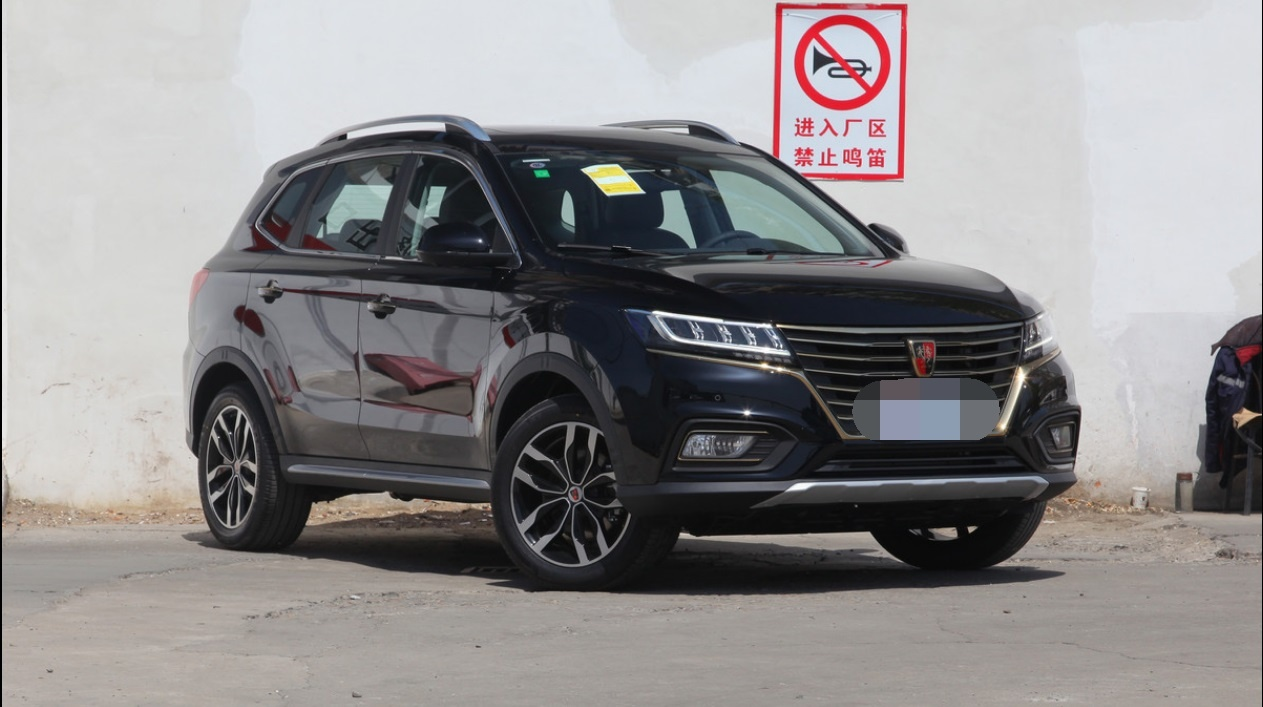SUV: (178, 108, 1104, 588)
